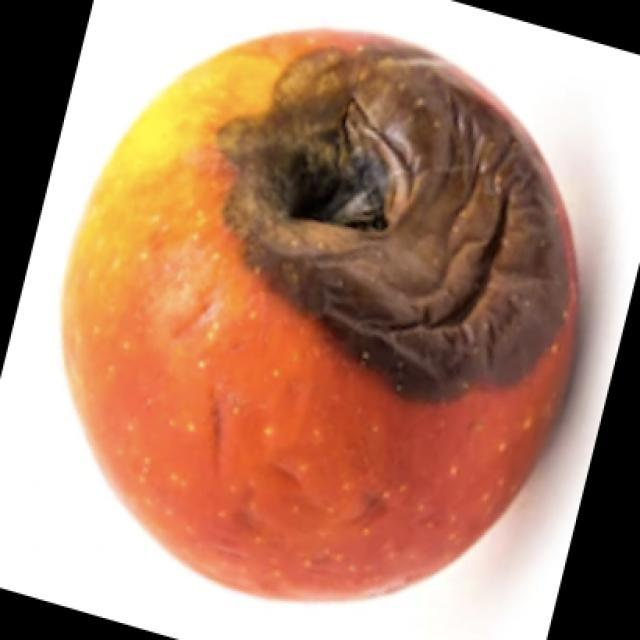Rotten: (120, 48, 587, 590)
